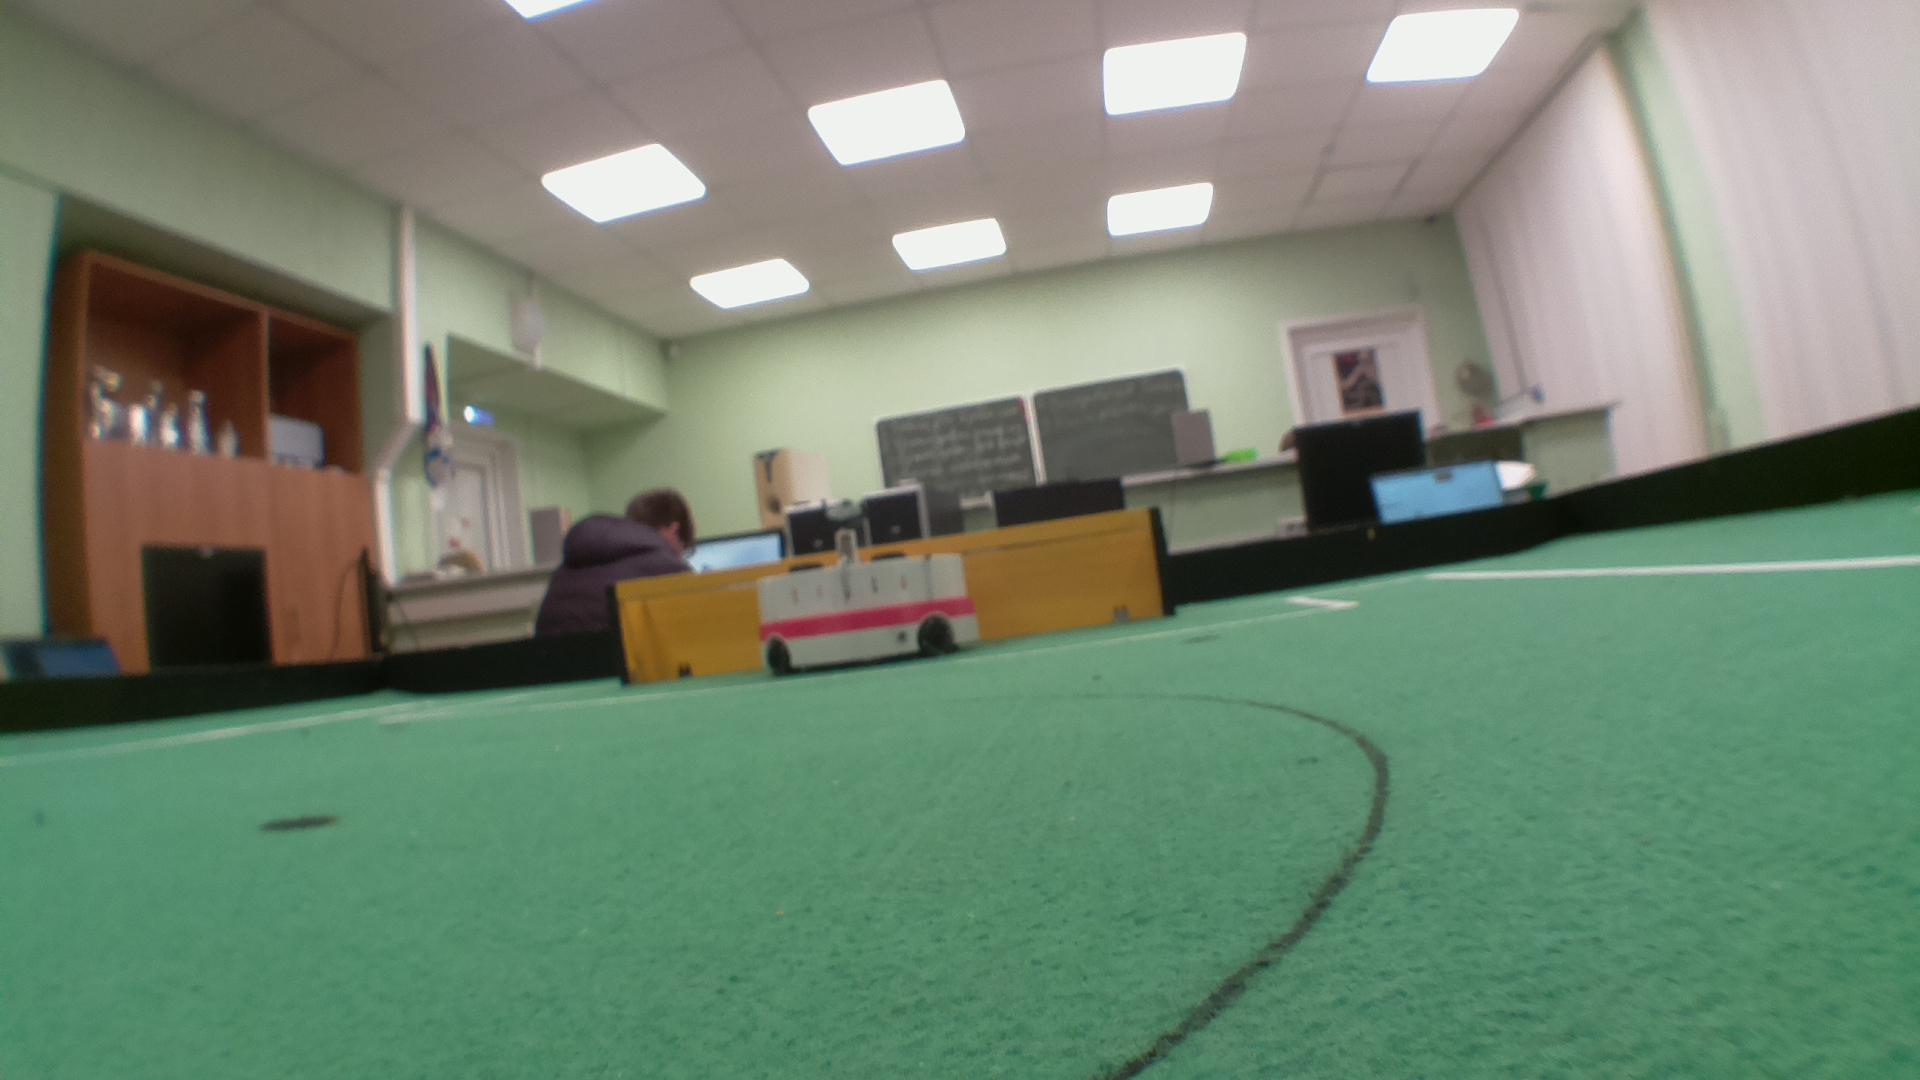YellowGoal: (618, 510, 1175, 684)
